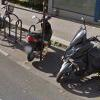Motorcycle: (52, 22, 100, 100)
